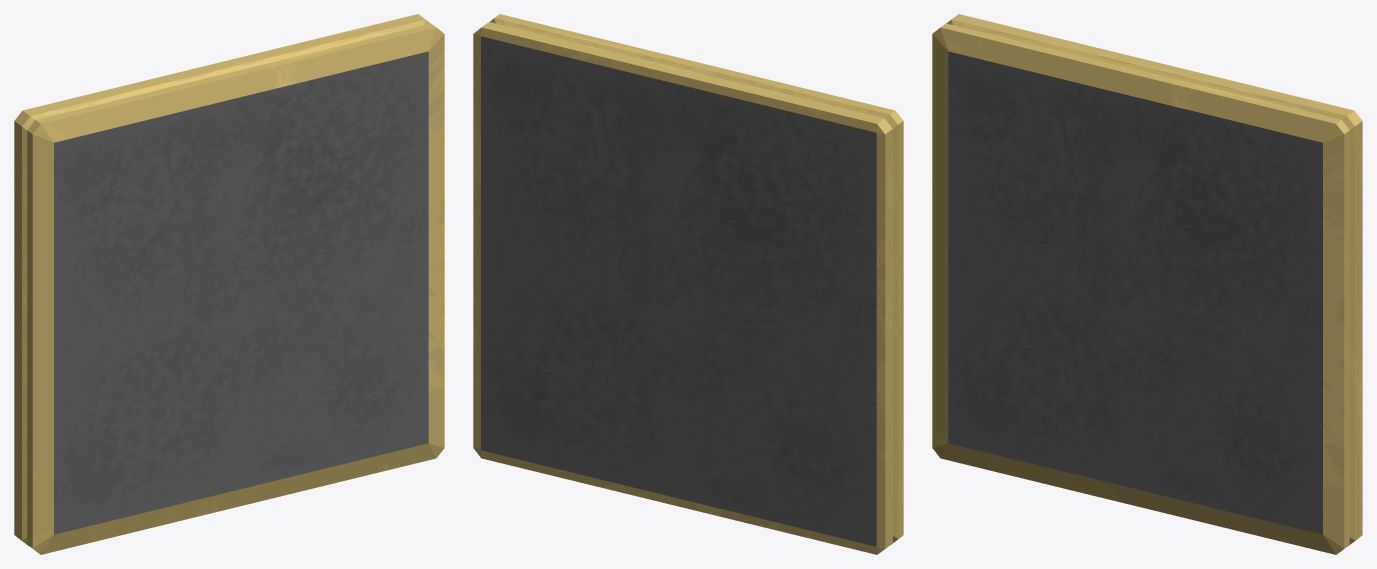
File: MoveFootStage_01.fbx
3 renders of one model, left to right at view 1: azimuth 30°, elevation 25°; view 2: azimuth 150°, elevation 25°; view 3: azimuth 330°, elevation 25°, orthographic.
Visible parts, largest first — view 1: MoveFootStage_01; view 2: MoveFootStage_01; view 3: MoveFootStage_01.
Boxes of the visible parts, bbox=[...] form: MoveFootStage_01: bbox=[14, 14, 444, 554]; MoveFootStage_01: bbox=[473, 14, 903, 554]; MoveFootStage_01: bbox=[932, 14, 1362, 554].
Bounding box in the file's own units: 5 × 5 × 0.45.
